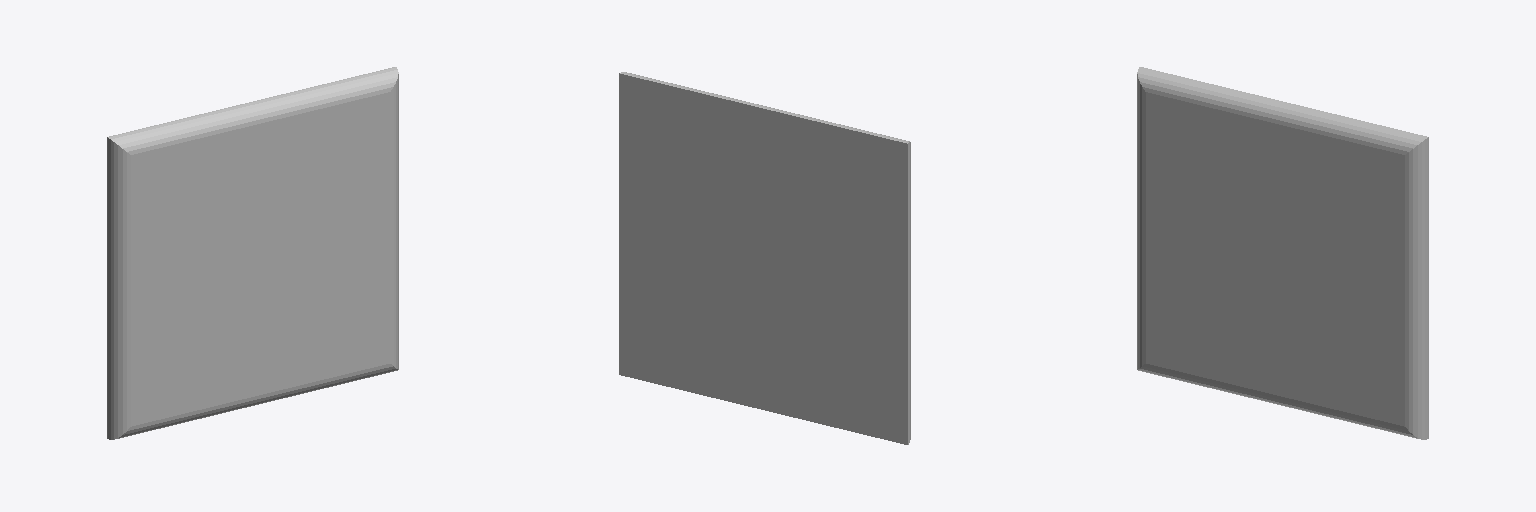
File: light switch plate.obj
3 renders of one model, left to right at view 1: azimuth 30°, elevation 25°; view 2: azimuth 150°, elevation 25°; view 3: azimuth 330°, elevation 25°, orthographic.
Parts seen in each view (by area): view 1: Cube; view 2: Cube; view 3: Cube.
Part boxes in pixels (x1,y1,x2,y2): Cube: (107,67,398,439); Cube: (619,72,910,444); Cube: (1137,67,1428,439).
Size of the model in its own units: 2 by 2 by 0.11.